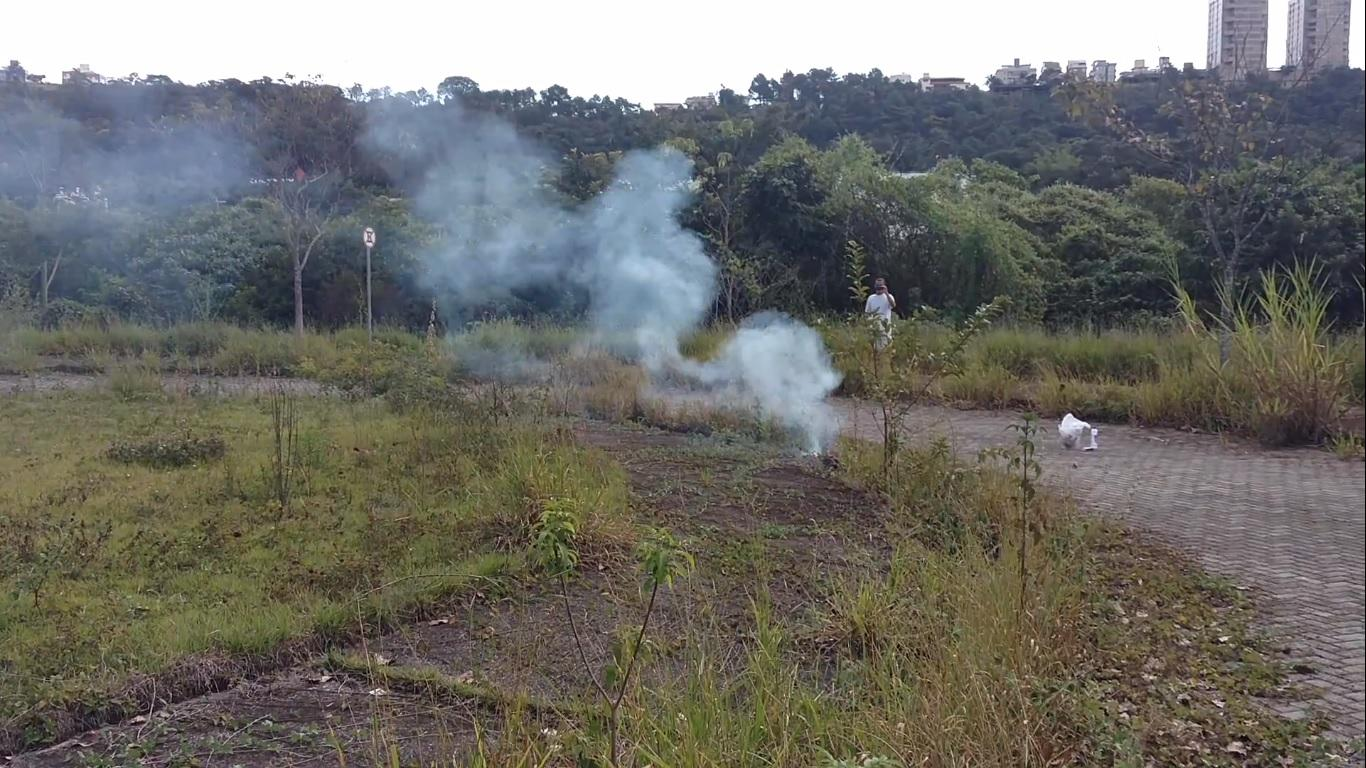smoke: (596, 206, 690, 344), (734, 316, 826, 426)
